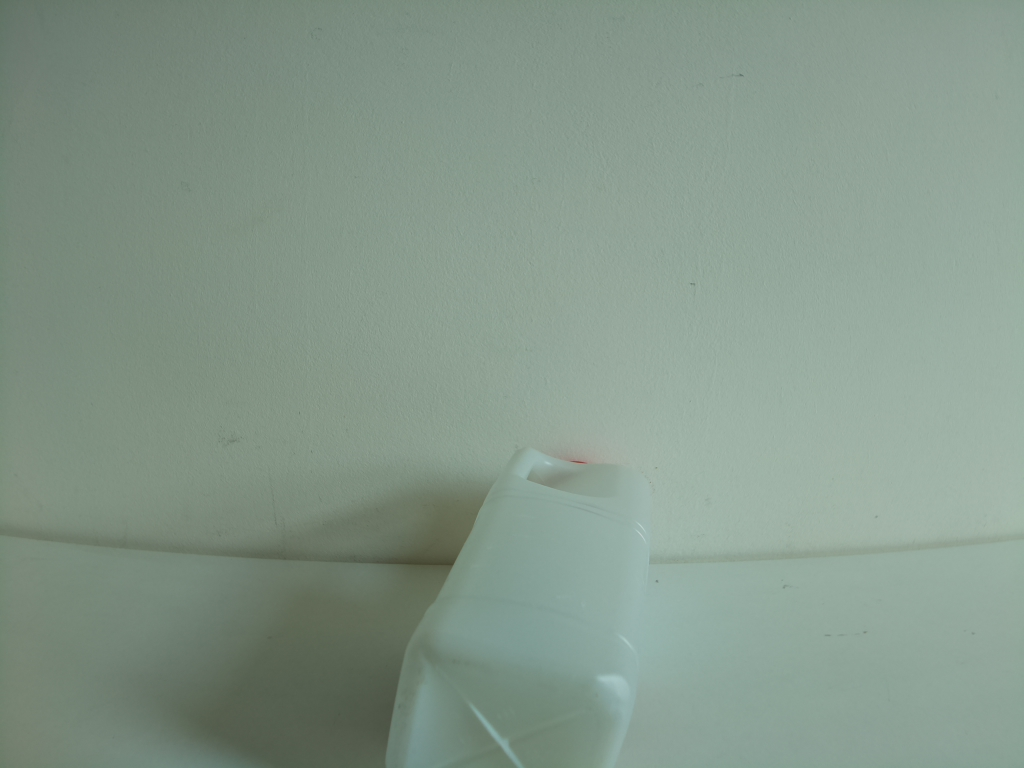milk: (384, 452, 656, 768)
